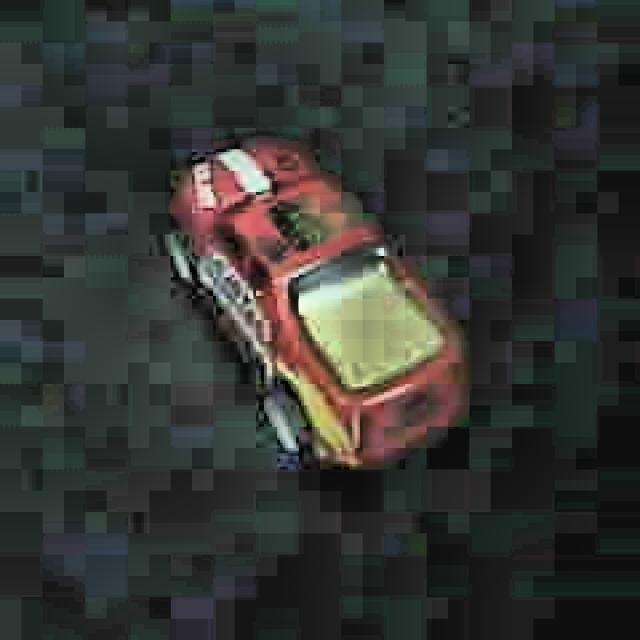car: (159, 133, 474, 476)
